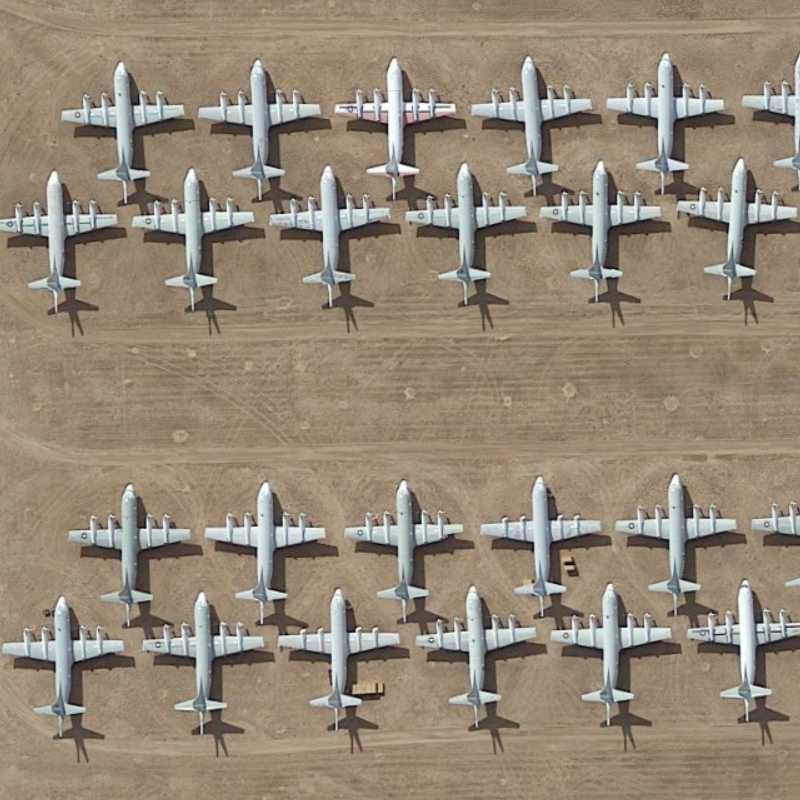A9: (52, 53, 200, 207), (60, 466, 200, 628), (200, 471, 341, 631), (131, 588, 269, 744), (265, 163, 404, 315), (540, 155, 675, 311), (467, 50, 605, 200), (602, 39, 732, 198), (410, 578, 544, 732), (616, 459, 744, 620), (126, 161, 258, 317), (548, 579, 682, 732), (483, 462, 611, 621), (403, 159, 536, 311), (1, 159, 126, 320), (343, 475, 473, 627), (331, 50, 460, 203), (671, 154, 800, 306), (279, 588, 409, 737), (4, 598, 132, 747), (198, 55, 330, 198), (687, 578, 800, 730)
